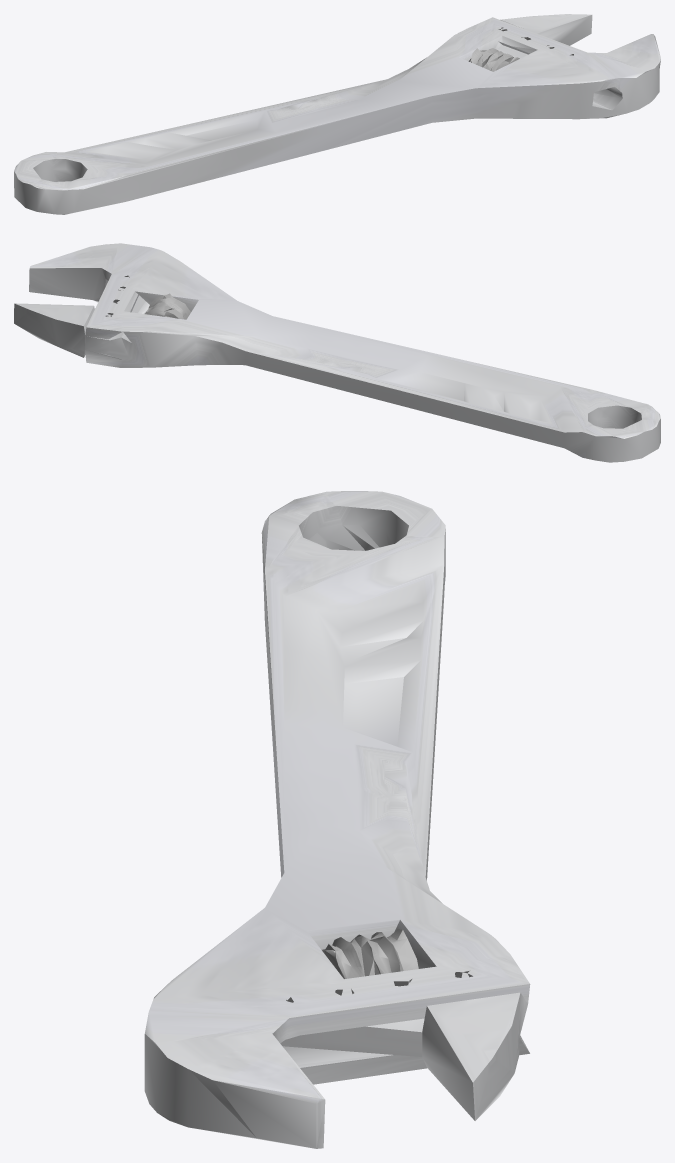
File: simready-wrench-adjustable.lite.a20a7671.glb
3 renders of one model, top to bottom at view 1: azimuth 30°, elevation 25°; view 2: azimuth 150°, elevation 25°; view 3: azimuth 270°, elevation 25°, orthographic. The views are drawn at different scales.
Parts seen in each view (by area): view 1: model; view 2: model; view 3: model.
Boxes of the visible parts, <box> form: model: <box>14,14,660,214</box>; model: <box>14,243,660,462</box>; model: <box>144,491,530,1148</box>.
Bounding box in the file's own units: 0.2093 × 0.0139 × 0.0559.
3 materials, 2 textured.
